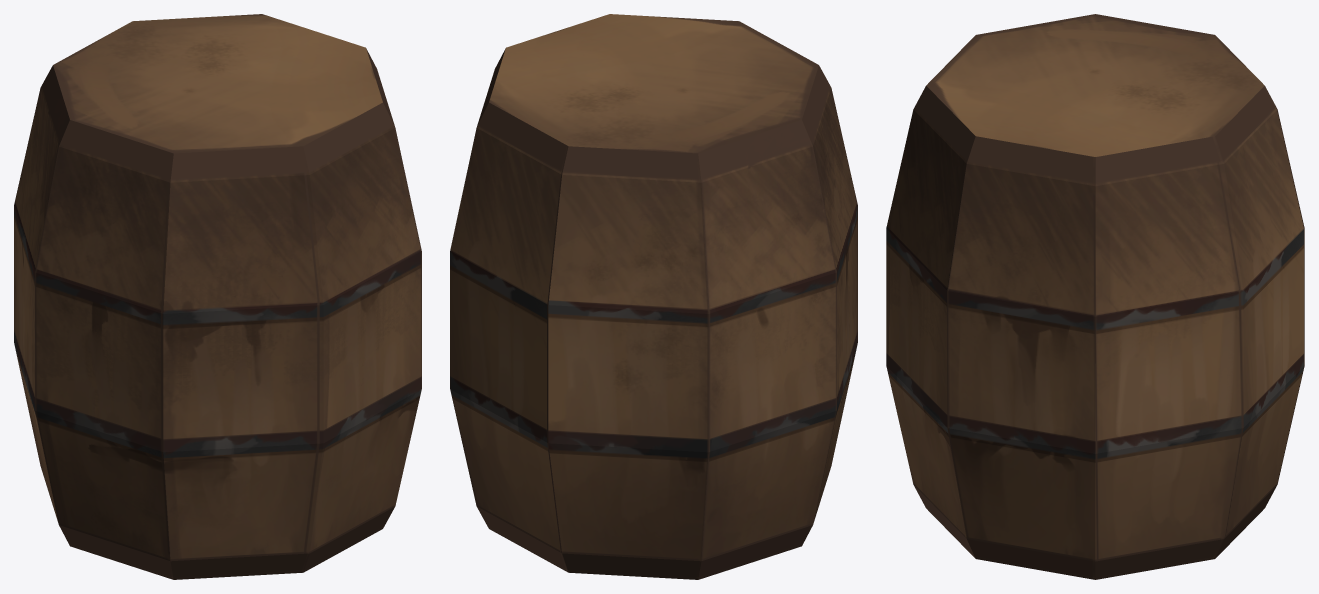
File: Barrel01.fbx
The picture shows the model from 3 angles, left to right: view 1: azimuth 30°, elevation 25°; view 2: azimuth 150°, elevation 25°; view 3: azimuth 270°, elevation 25°; orthographic projection.
Visible parts, largest first — view 1: Barrel01; view 2: Barrel01; view 3: Barrel01.
Boxes of the visible parts, x1,y1,x2,y2 form: Barrel01: (14,14,421,579); Barrel01: (450,14,857,579); Barrel01: (886,14,1304,579).
Bounding box in the file's own units: 1.06 × 1.18 × 1.06.
1 material, 1 textured.
